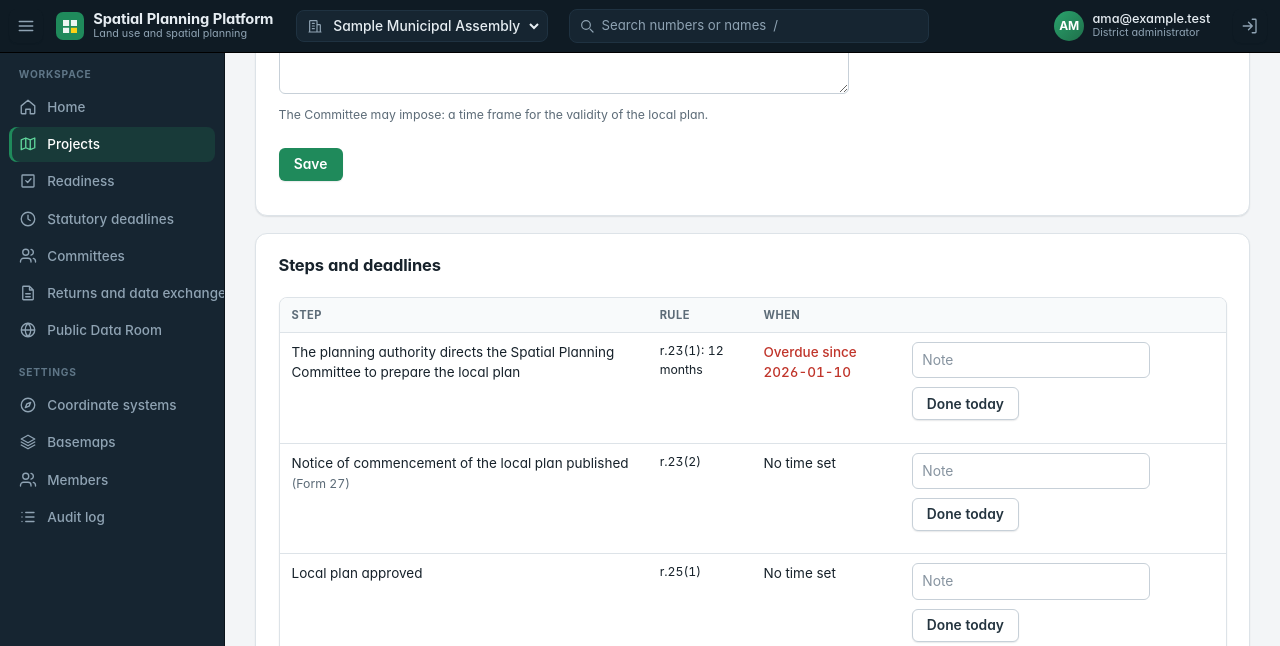
Test: making a local plan › shows each step with its rule, form and date, and records one
(page scrolled)
Type "Resolution 14" into the field named "Note for: The planning authority" at (1031, 360), box [912, 342, 1150, 378]
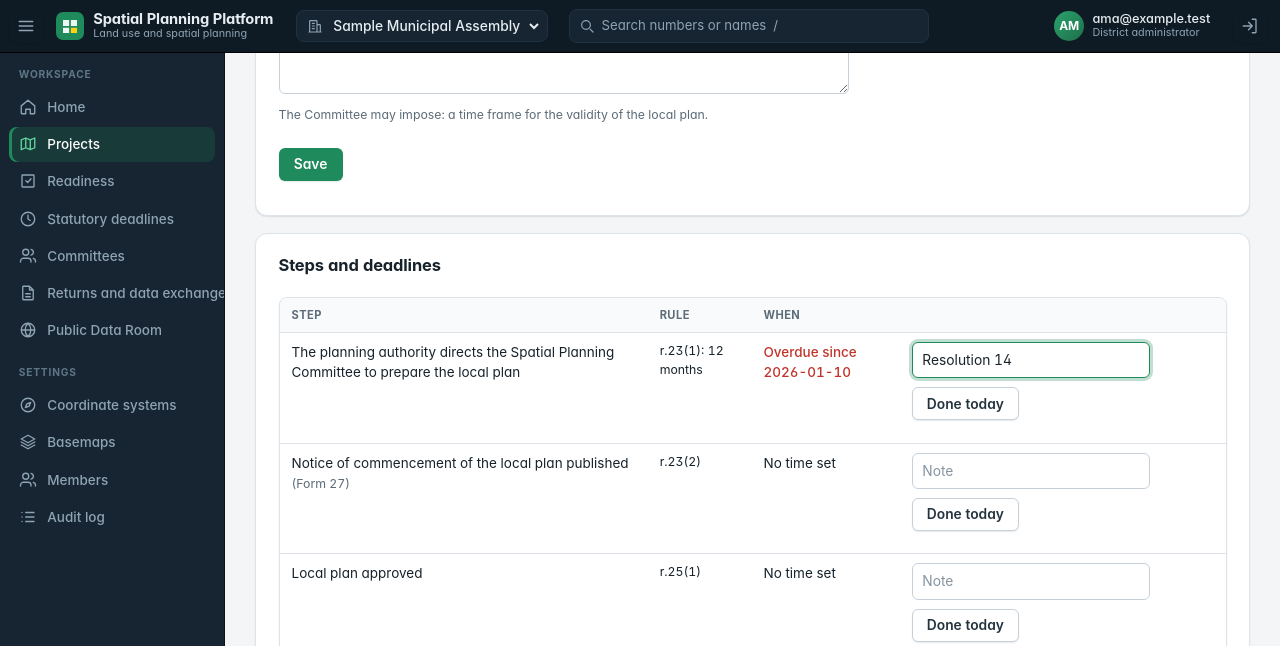
Click the button with aria-label "Done today: The planning authority" at (965, 404), box [912, 387, 1019, 420]
(page scrolled)
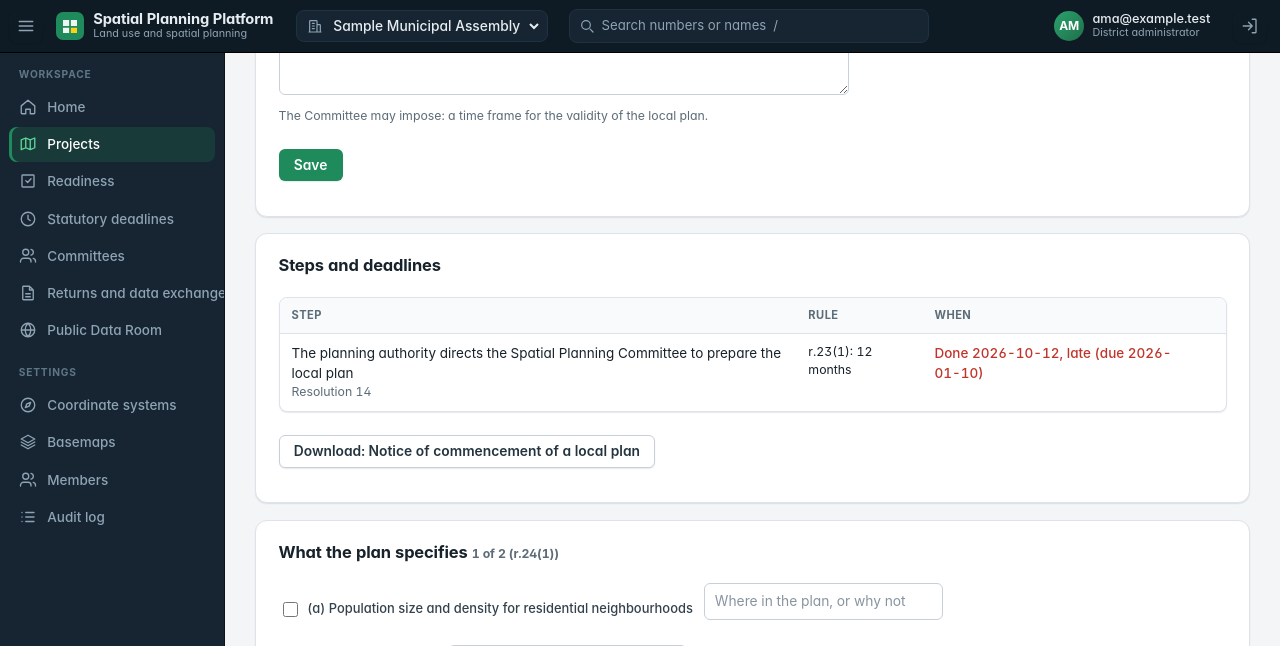
Expected: the text "The planning authority directs" shows "Done 2026-10-12, late (due 2026-01-10)", [934, 345, 1172, 381]
